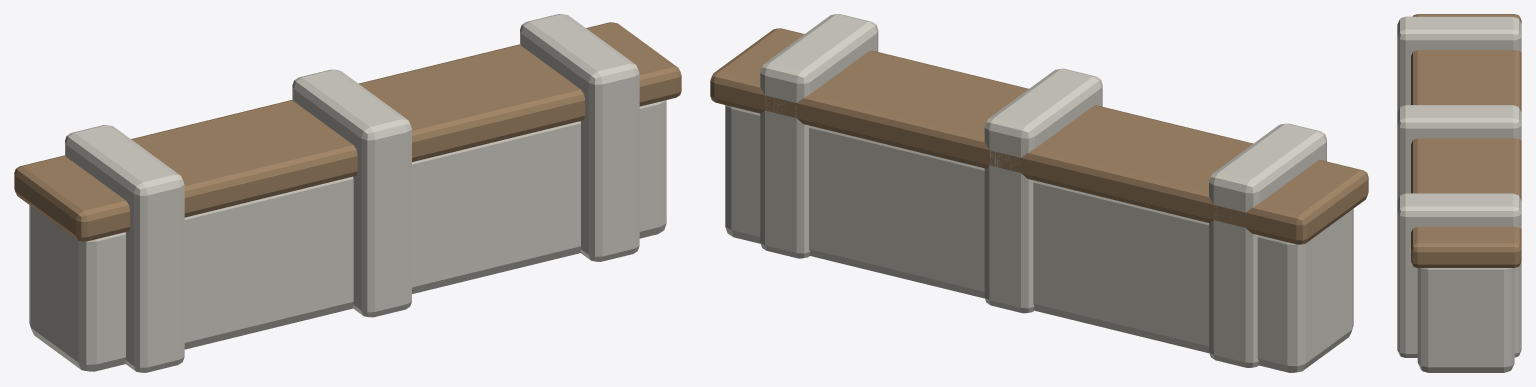
The model's file is Valoria_ASF_WallSupport_v1.glb.
3 views of the same model, side by side, from view 1: azimuth 30°, elevation 25°; view 2: azimuth 150°, elevation 25°; view 3: azimuth 270°, elevation 25° (orthographic). The views are drawn at different scales.
Parts seen in each view (by area): view 1: ASF_Wall_StoneBody, ASF_Wall_TimberCap, ASF_Wall_Buttress.001, ASF_Wall_Buttress, ASF_Wall_Buttress.002; view 2: ASF_Wall_StoneBody, ASF_Wall_TimberCap, ASF_Wall_Buttress.002, ASF_Wall_Buttress, ASF_Wall_Buttress.001; view 3: ASF_Wall_TimberCap, ASF_Wall_StoneBody, ASF_Wall_Buttress, ASF_Wall_Buttress.001, ASF_Wall_Buttress.002.
Part boxes in pixels (x1,y1,x2,y2): ASF_Wall_StoneBody: (29,100,666,371); ASF_Wall_TimberCap: (14,22,681,241); ASF_Wall_Buttress.001: (65,125,184,372); ASF_Wall_Buttress: (520,14,639,261); ASF_Wall_Buttress.002: (292,69,411,317); ASF_Wall_StoneBody: (725,105,1353,372); ASF_Wall_TimberCap: (710,28,1368,244); ASF_Wall_Buttress.002: (984,68,1102,313); ASF_Wall_Buttress: (760,14,878,258); ASF_Wall_Buttress.001: (1209,123,1326,367); ASF_Wall_TimberCap: (1411,14,1521,267); ASF_Wall_StoneBody: (1417,268,1514,372); ASF_Wall_Buttress: (1397,193,1521,357); ASF_Wall_Buttress.001: (1397,16,1521,112); ASF_Wall_Buttress.002: (1397,105,1521,200).
Bounding box in the file's own units: 4.12 × 1.24 × 0.92.
